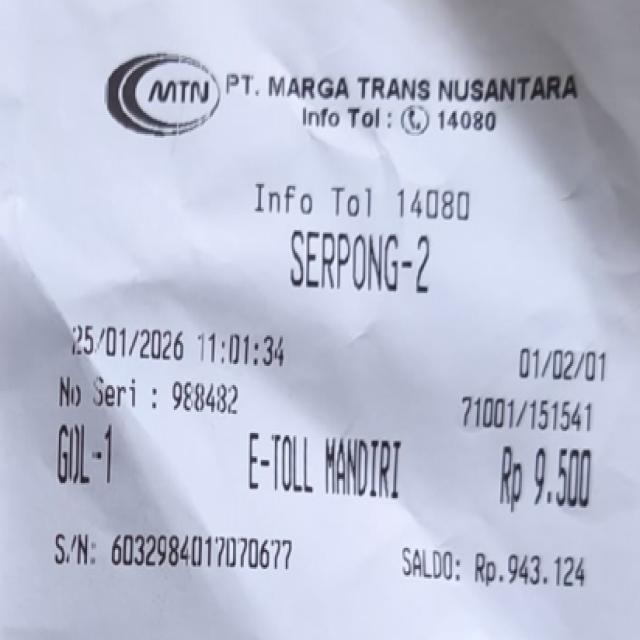date: (63, 321, 290, 369)
store: (226, 66, 591, 109)
total: (491, 444, 590, 518)
